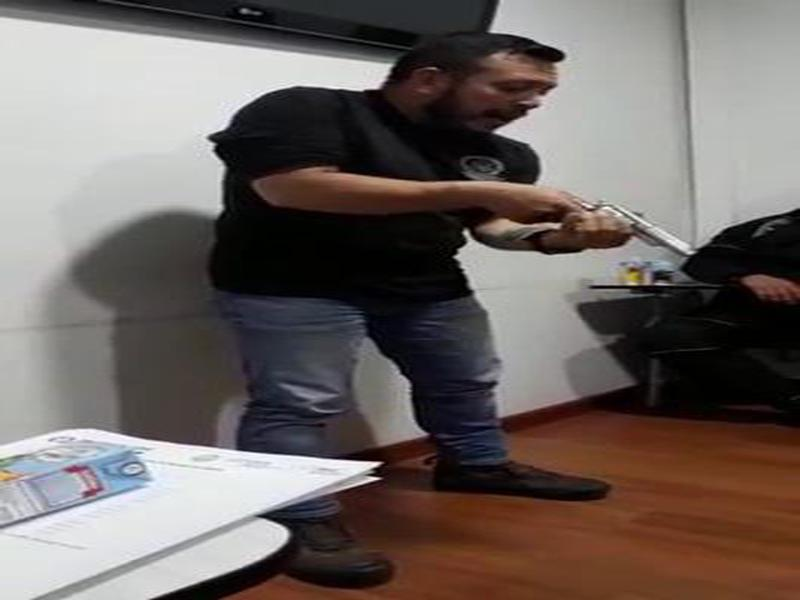Revolver: (552, 175, 707, 296)
